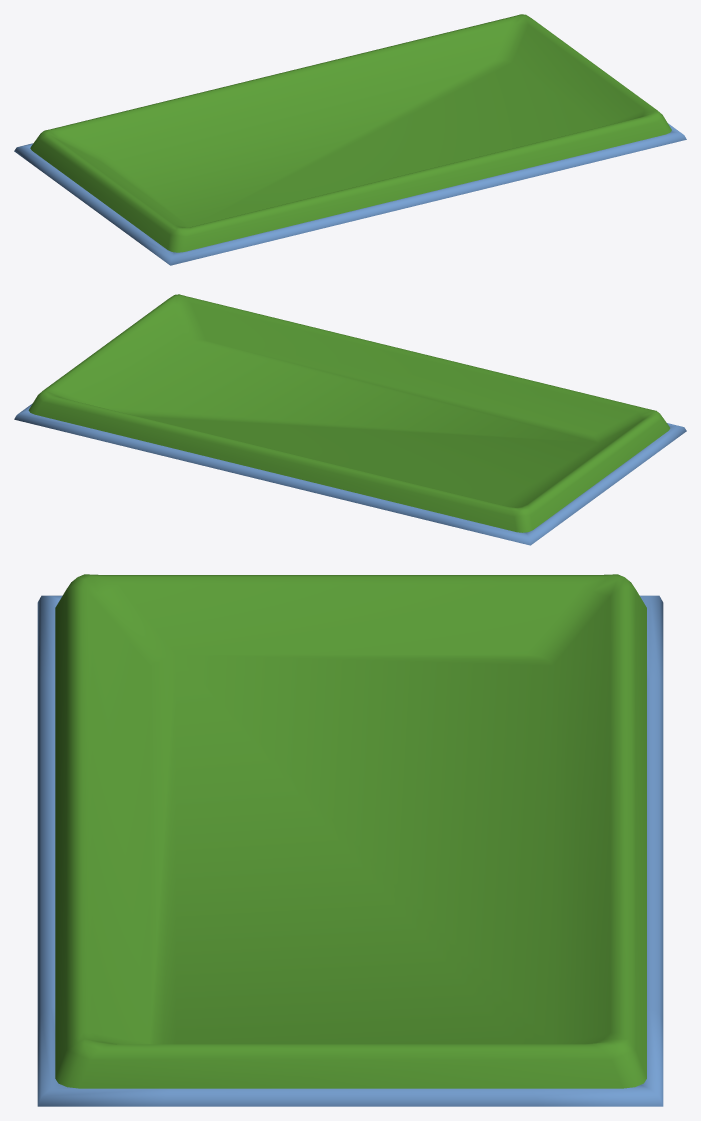
File: fish_farm.fbx
3 renders of one model, top to bottom at view 1: azimuth 30°, elevation 25°; view 2: azimuth 150°, elevation 25°; view 3: azimuth 270°, elevation 25°, orthographic. The views are drawn at different scales.
Visible parts, largest first — view 1: Plane.004; view 2: Plane.004; view 3: Plane.004.
Boxes of the visible parts, box(x1,y1,x2,y2) form: Plane.004: box(14, 14, 686, 265); Plane.004: box(14, 294, 686, 545); Plane.004: box(37, 574, 663, 1106).
Bounding box in the file's own units: 22.68 × 0.9672 × 11.9.
